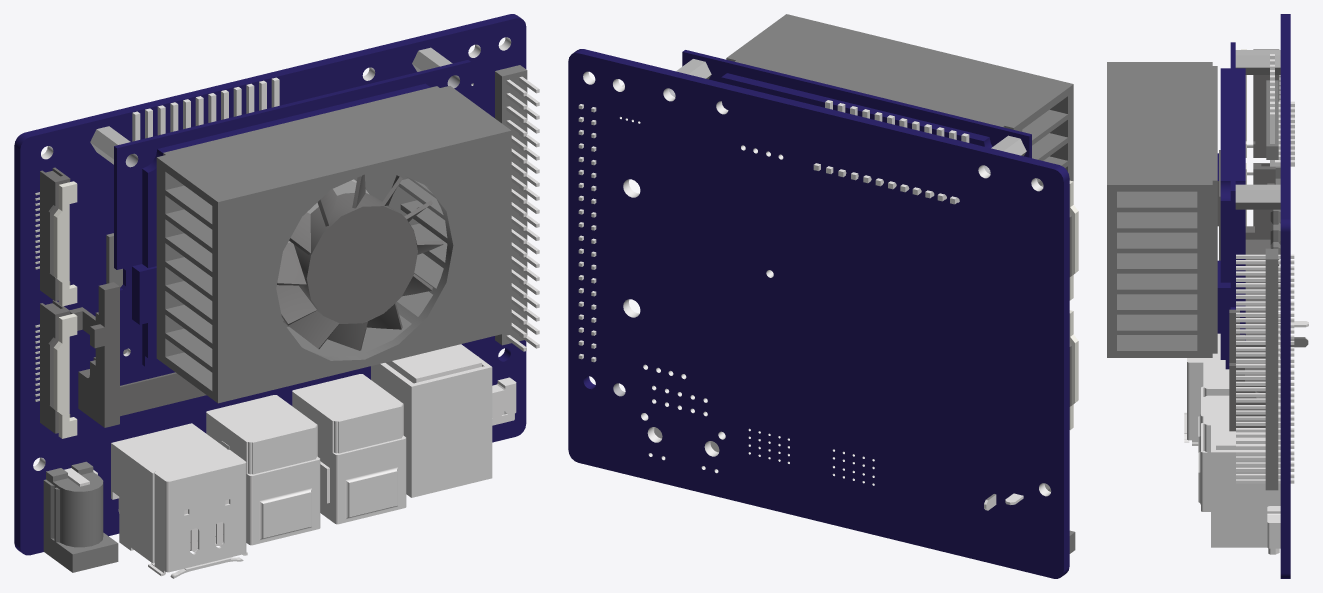
File: CPU_UN_v1.gltf
3 renders of one model, left to right at view 1: azimuth 30°, elevation 25°; view 2: azimuth 150°, elevation 25°; view 3: azimuth 270°, elevation 25°, orthographic. The views are drawn at different scales.
Parts seen in each view (by area): view 1: mesh367, mesh2243, mesh2242, mesh2483, mesh2215, mesh856, mesh2047, mesh2258, mesh2196, mesh1693, mesh1667, mesh782 (+38 smaller); view 2: mesh2816, mesh2242, mesh2120, mesh782, mesh785, mesh2258, mesh2146, mesh2128, mesh2162; view 3: mesh2242, mesh2304, mesh855, mesh783, mesh1143, mesh782, mesh2284, mesh2291, mesh2297, mesh2300, mesh2306, mesh2282 (+28 smaller).
Boxes of the visible parts, left/top/right/bottom form: mesh367: left=20, top=18, right=526, bottom=555; mesh2243: left=218, top=130, right=511, bottom=403; mesh2242: left=157, top=86, right=510, bottom=201; mesh2483: left=306, top=206, right=417, bottom=323; mesh2215: left=117, top=62, right=470, bottom=385; mesh856: left=411, top=367, right=492, bottom=497; mesh2047: left=170, top=463, right=244, bottom=571; mesh2258: left=156, top=157, right=217, bottom=402; mesh2196: left=94, top=286, right=206, bottom=427; mesh1693: left=111, top=423, right=245, bottom=481; mesh1667: left=111, top=443, right=151, bottom=562; mesh782: left=25, top=14, right=515, bottom=136; mesh2816: left=568, top=53, right=1063, bottom=578; mesh2242: left=727, top=14, right=1073, bottom=127; mesh2120: left=682, top=52, right=1029, bottom=157; mesh782: left=578, top=49, right=1059, bottom=169; mesh785: left=1064, top=178, right=1069, bottom=570; mesh2258: left=1013, top=84, right=1073, bottom=185; mesh2146: left=721, top=73, right=989, bottom=141; mesh2128: left=683, top=50, right=1031, bottom=136; mesh2162: left=720, top=77, right=984, bottom=146; mesh2242: left=1107, top=62, right=1217, bottom=184; mesh2304: left=1107, top=185, right=1212, bottom=357; mesh855: left=1211, top=452, right=1280, bottom=547; mesh783: left=1280, top=232, right=1290, bottom=573; mesh1143: left=1265, top=259, right=1278, bottom=490; mesh782: left=1280, top=15, right=1290, bottom=218; mesh2284: left=1117, top=191, right=1197, bottom=207; mesh2291: left=1117, top=232, right=1197, bottom=248; mesh2297: left=1117, top=273, right=1197, bottom=289; mesh2300: left=1117, top=314, right=1197, bottom=330; mesh2306: left=1117, top=212, right=1197, bottom=228; mesh2282: left=1117, top=335, right=1197, bottom=350.
Bounding box in the file's own units: 0.1 × 0.0802 × 0.0402.
